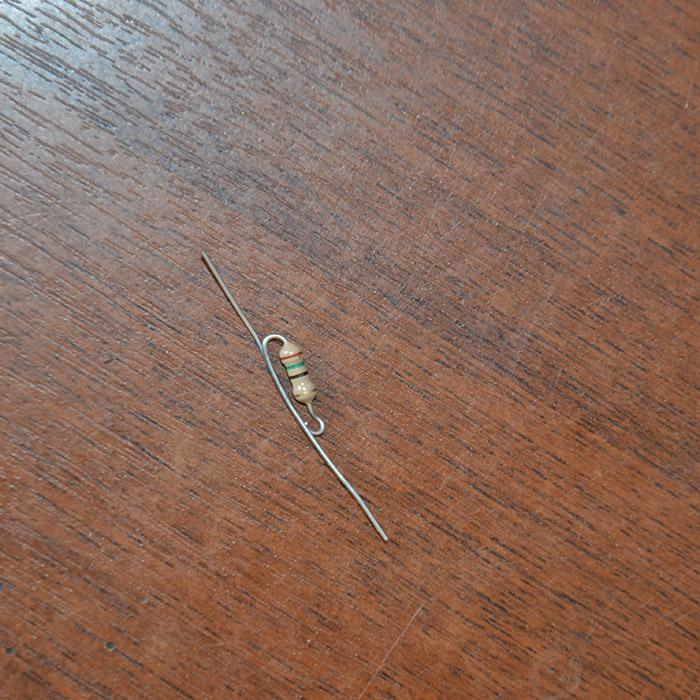resistor: (274, 338, 317, 404)
